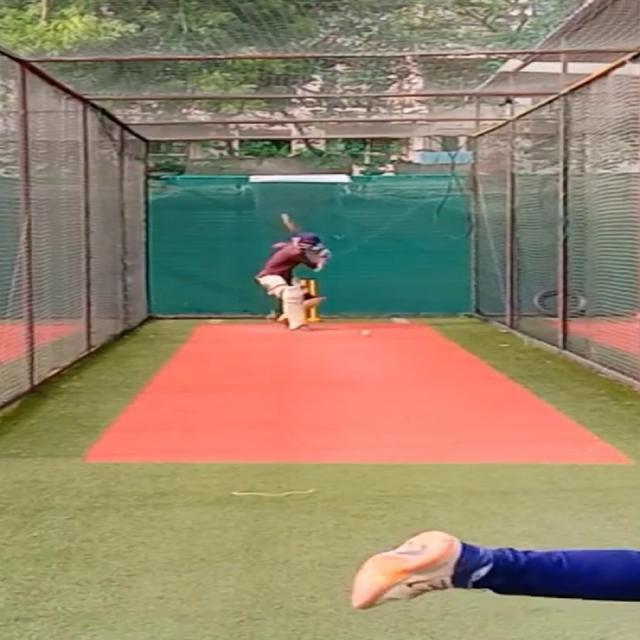stump: (305, 278, 321, 323)
